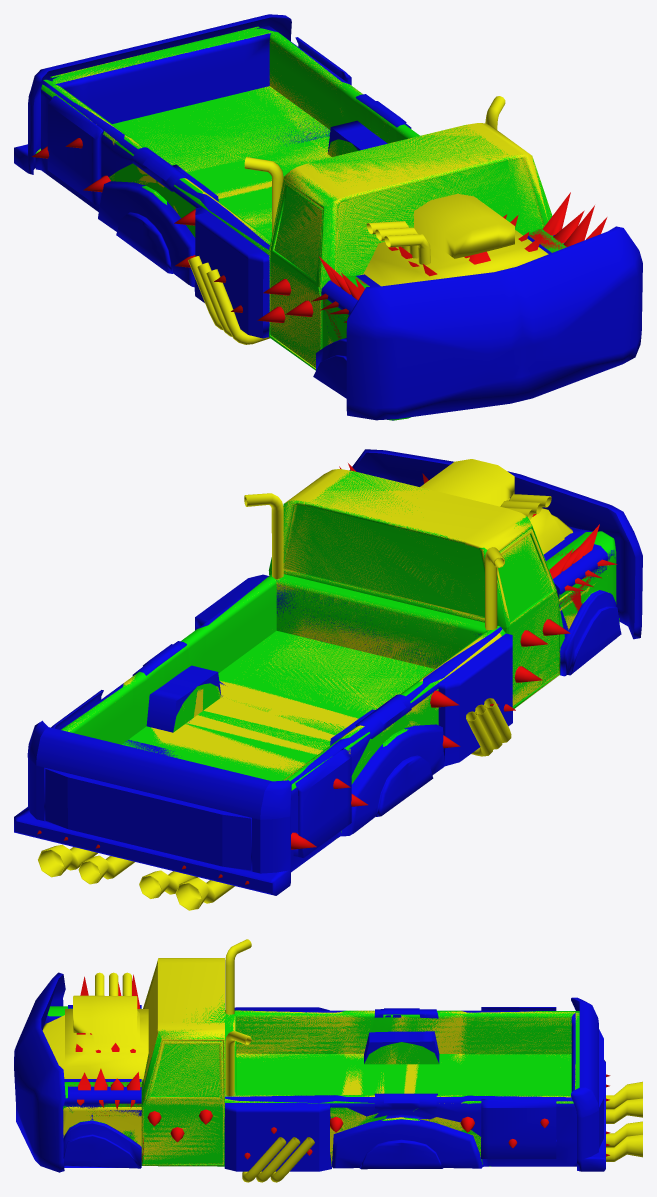
The model's file is Trucks_Anims_2.fbx.
3 views of the same model, one above another, from view 1: azimuth 30°, elevation 25°; view 2: azimuth 150°, elevation 25°; view 3: azimuth 270°, elevation 25° (orthographic). The views are drawn at different scales.
Parts seen in each view (by area): view 1: Truck_Front_Armored, Truck_Back_Armored, Truck_Back_Basic, Truck_Cab_Top_basic, Truck_Cab_1_top, Truck_Front_Speed, Truck_Back_1, Truck_Front_attack, Truck_Cab_bottom_basic, Truck_Cab_bottom, Truck_Front_basic; view 2: Truck_Back_Armored, Truck_Back_Basic, Truck_Cab_Top_basic, Truck_Back_1, Truck_Cab_1_top, Truck_Front_Speed, Truck_Front_Armored, Truck_Front_attack, Truck_Cab_bottom_basic, Truck_Front_basic, Truck_Cab_bottom; view 3: Truck_Back_Armored, Truck_Back_Basic, Truck_Front_Speed, Truck_Front_Armored, Truck_Back_1, Truck_Cab_1_top, Truck_Cab_bottom_basic, Truck_Cab_Top_basic, Truck_Cab_bottom, Truck_Front_attack, Truck_Front_basic.
Boxes of the visible parts, bbox=[...] form: Truck_Front_Armored: bbox=[313, 226, 642, 420]; Truck_Back_Armored: bbox=[14, 14, 411, 338]; Truck_Back_Basic: bbox=[35, 26, 419, 254]; Truck_Cab_Top_basic: bbox=[269, 125, 551, 287]; Truck_Cab_1_top: bbox=[269, 123, 552, 287]; Truck_Front_Speed: bbox=[188, 96, 548, 344]; Truck_Back_1: bbox=[37, 27, 386, 254]; Truck_Front_attack: bbox=[32, 138, 607, 339]; Truck_Cab_bottom_basic: bbox=[269, 251, 322, 370]; Truck_Cab_bottom: bbox=[269, 251, 321, 368]; Truck_Front_basic: bbox=[323, 228, 566, 420]; Truck_Back_Armored: bbox=[14, 574, 512, 895]; Truck_Back_Basic: bbox=[61, 574, 505, 832]; Truck_Cab_Top_basic: bbox=[269, 470, 556, 627]; Truck_Back_1: bbox=[64, 579, 502, 839]; Truck_Cab_1_top: bbox=[271, 469, 555, 624]; Truck_Front_Speed: bbox=[38, 459, 608, 910]; Truck_Front_Armored: bbox=[349, 449, 642, 676]; Truck_Front_attack: bbox=[37, 463, 617, 884]; Truck_Cab_bottom_basic: bbox=[268, 570, 559, 708]; Truck_Front_basic: bbox=[546, 531, 619, 675]; Truck_Cab_bottom: bbox=[512, 593, 559, 707]; Truck_Back_Armored: bbox=[224, 997, 605, 1171]; Truck_Back_Basic: bbox=[225, 1010, 579, 1166]; Truck_Front_Speed: bbox=[42, 939, 642, 1182]; Truck_Front_Armored: bbox=[14, 972, 141, 1172]; Truck_Back_1: bbox=[225, 1010, 578, 1165]; Truck_Cab_1_top: bbox=[142, 958, 224, 1099]; Truck_Cab_bottom_basic: bbox=[141, 1094, 224, 1166]; Truck_Cab_Top_basic: bbox=[141, 995, 224, 1099]; Truck_Cab_bottom: bbox=[141, 1098, 224, 1165]; Truck_Front_attack: bbox=[68, 974, 610, 1159]; Truck_Front_basic: bbox=[47, 1006, 141, 1142].
Size of the model in its own units: 3.5 by 2.14 by 8.25.
